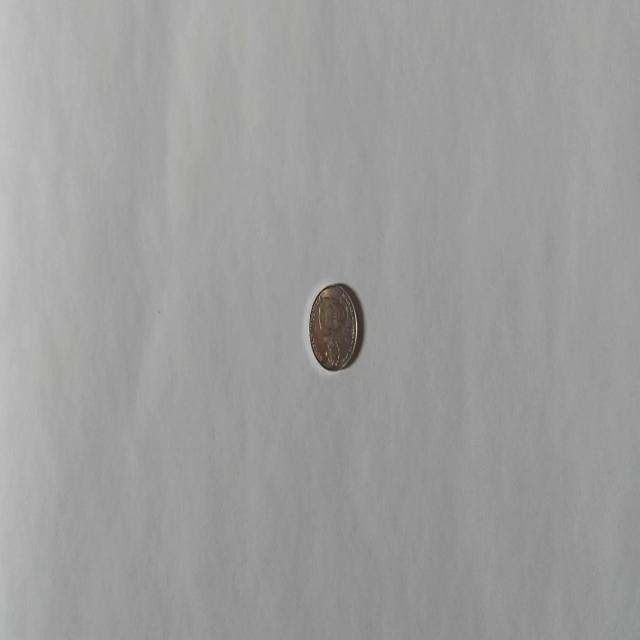seratus rupiah: (308, 282, 358, 372)
